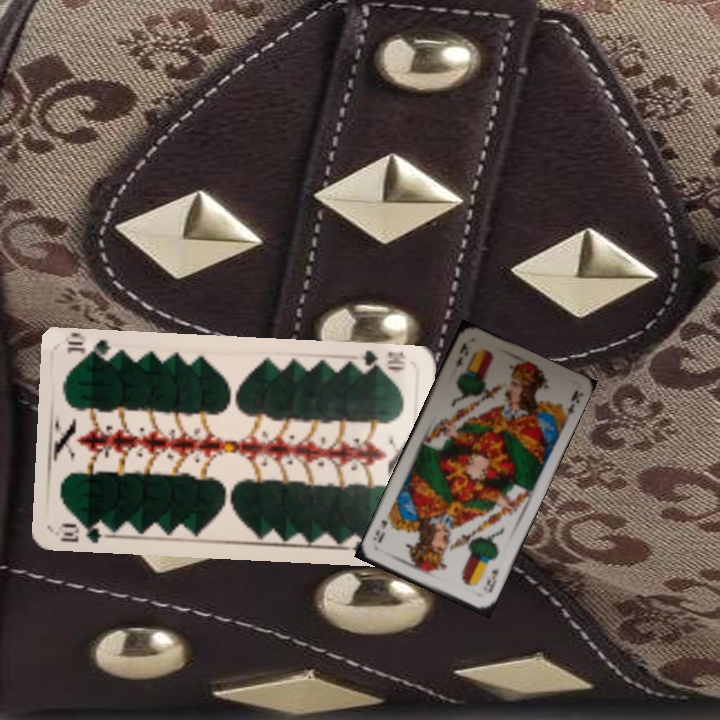EK: (482, 564, 501, 595), (452, 339, 471, 370)
G10: (57, 519, 113, 546), (357, 347, 408, 375)
